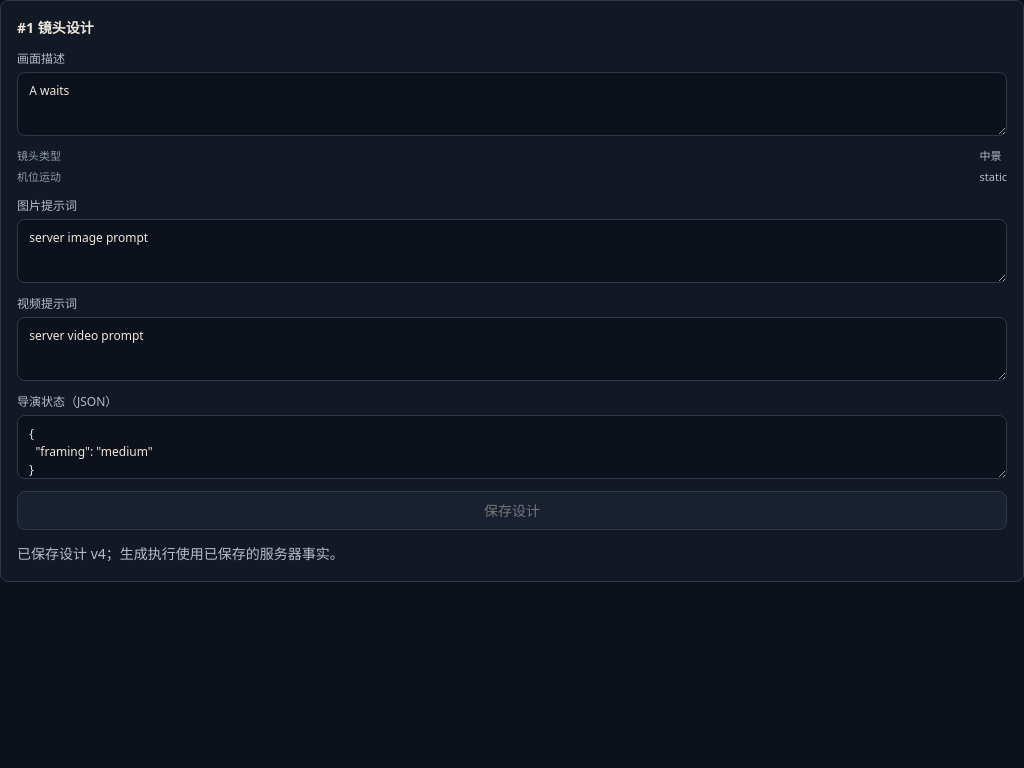
Test: ShotDesignPanel save feedback › explains a non-conflict save failure without inventing a version conflict
The image size is (1024, 768).
Replace the text in the text box labelled "图片提示词" with "local draft prompt": (512,251) [17, 219, 1007, 283]
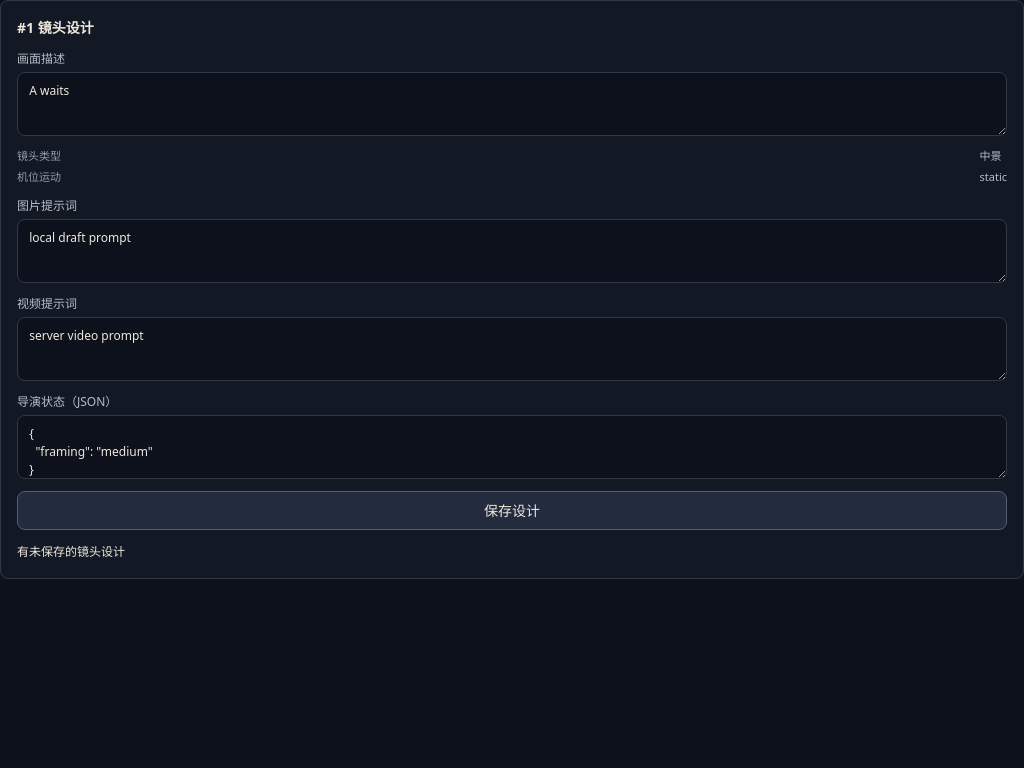
Click the button with test id "save-shot-design": (512,510) [17, 491, 1007, 530]
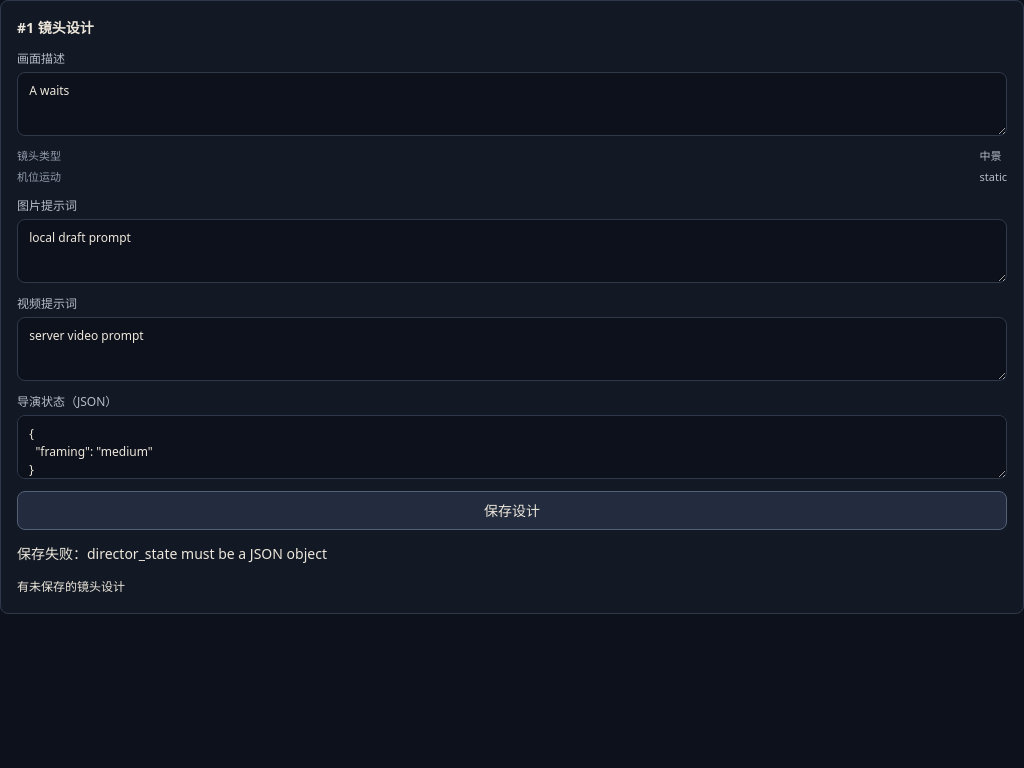
Check: the message "有未保存的镜头设计" is shown, box [17, 578, 125, 595]
Check: the text with test id "shot-design-message" shows "保存失败", box [17, 544, 327, 563]
